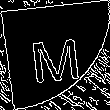M_N: (27, 27, 83, 83)
